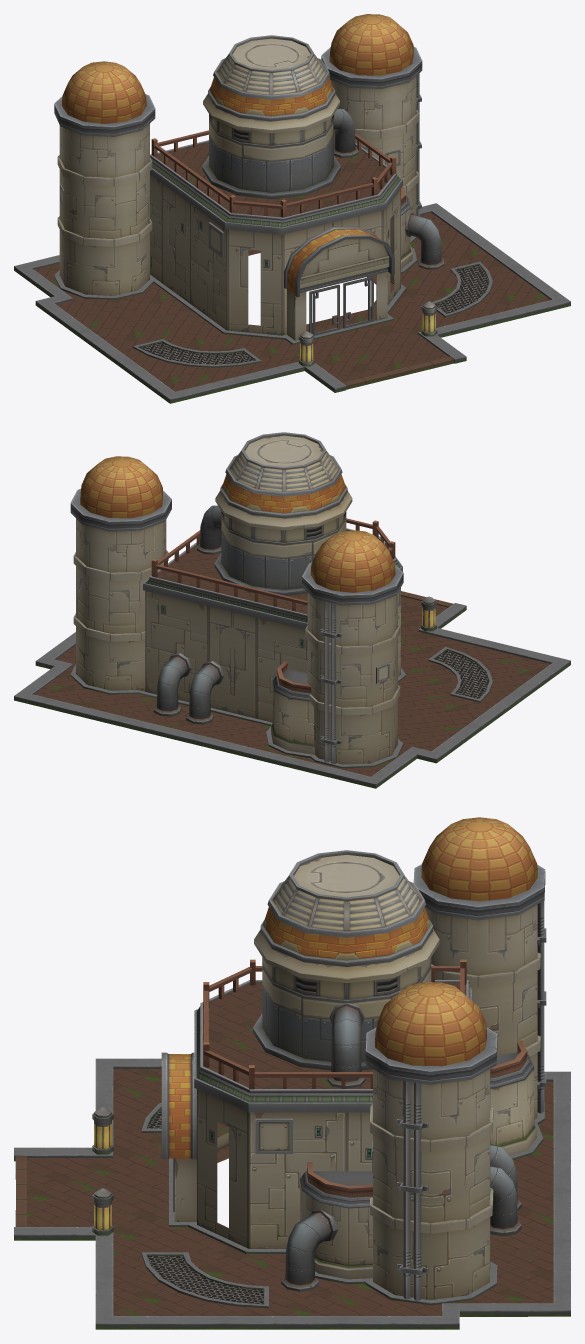
File: scene_lawennushandao_building04.FBX
3 views of the same model, one above another, from view 1: azimuth 30°, elevation 25°; view 2: azimuth 150°, elevation 25°; view 3: azimuth 270°, elevation 25° (orthographic). The views are drawn at different scales.
Parts seen in each view (by area): view 1: scene_lawennushandao_building04; view 2: scene_lawennushandao_building04; view 3: scene_lawennushandao_building04.
Boxes of the visible parts, x1,y1,x2,y2 form: scene_lawennushandao_building04: (14, 14, 570, 403); scene_lawennushandao_building04: (14, 432, 570, 788); scene_lawennushandao_building04: (14, 817, 570, 1329).
Size of the model in its own units: 1202 by 675 by 1068.
